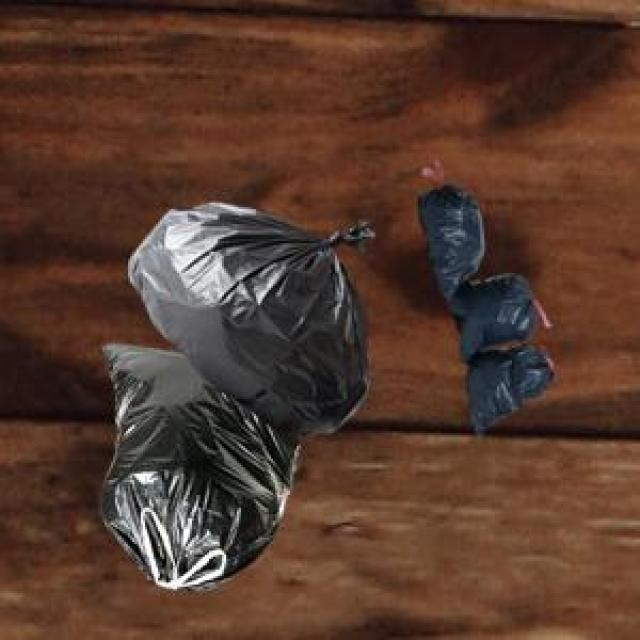Vinyl: (102, 202, 371, 589), (419, 185, 552, 432)
